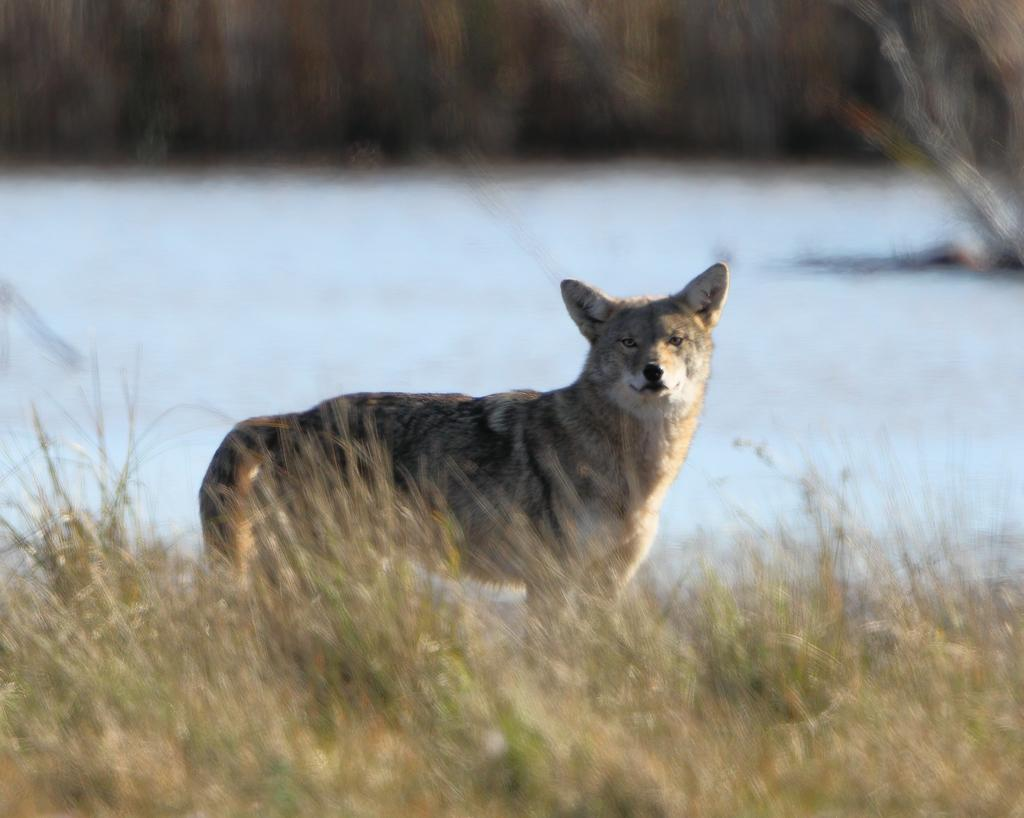Coyote: (195, 254, 734, 634)
